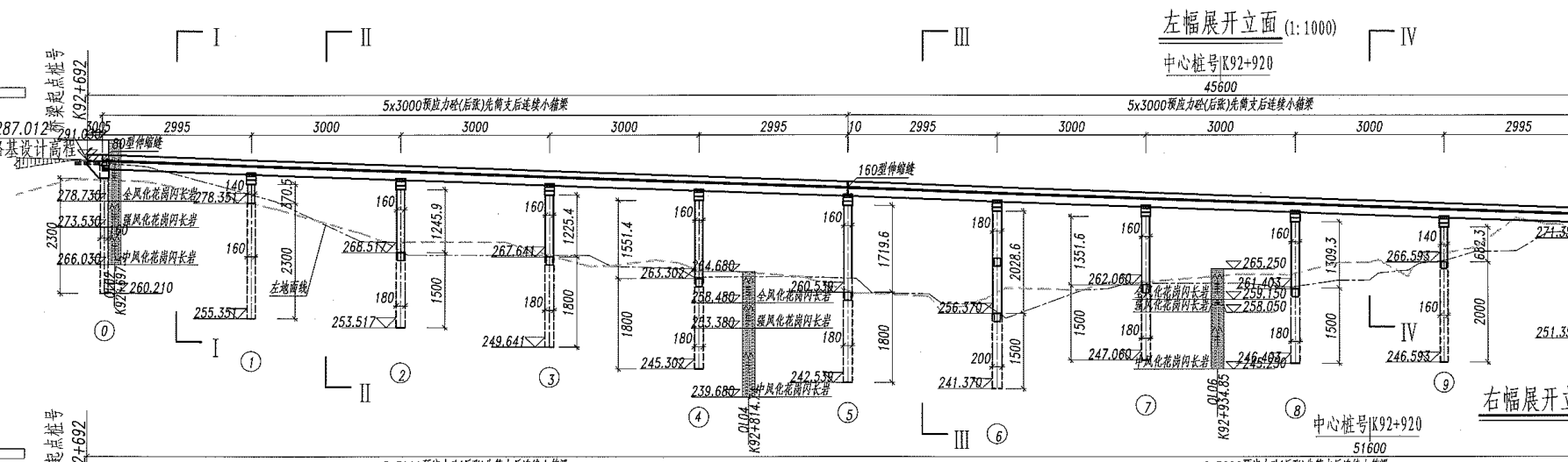A: (83, 79, 1568, 103)
B: (96, 93, 855, 121), (834, 96, 1568, 118)
C: (936, 197, 1019, 447), (478, 181, 564, 396), (331, 176, 416, 387), (788, 191, 862, 433), (1080, 201, 1159, 417), (643, 186, 710, 430), (191, 169, 264, 374), (1383, 214, 1459, 401), (1257, 209, 1313, 422)
